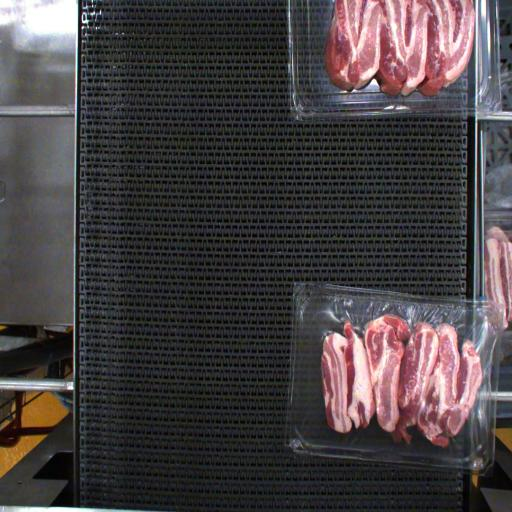unsealed: (312, 287, 495, 455)
